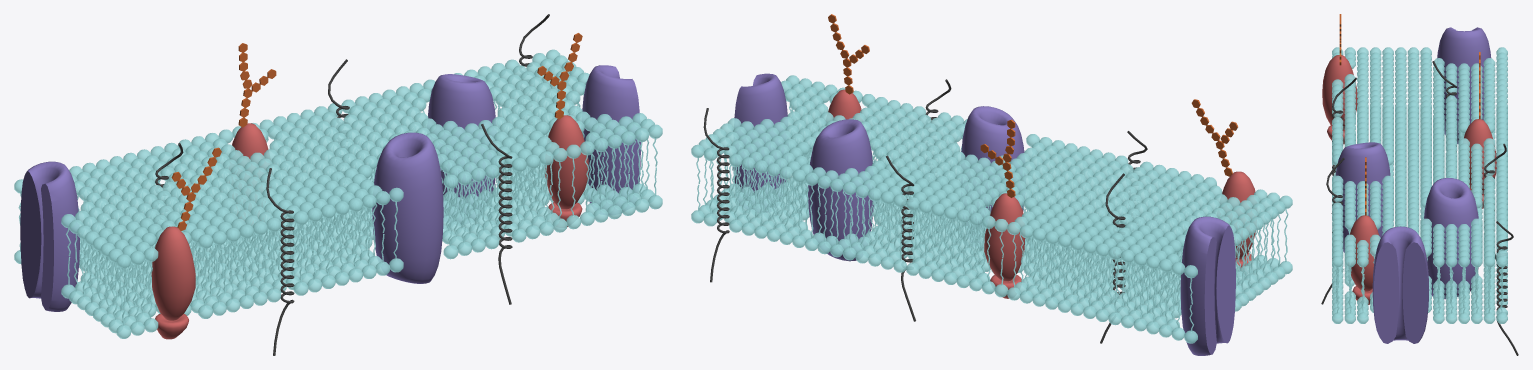
Rendered from membrane.glb.
The picture shows the model from 3 angles, left to right: view 1: azimuth 30°, elevation 25°; view 2: azimuth 150°, elevation 25°; view 3: azimuth 270°, elevation 25°; orthographic projection. The views are drawn at different scales.
Parts seen in each view (by area): view 1: base.001, Torus.009, Torus.008, Torus.007, Torus.006, Sphere.011, Sphere.007, Spiral.014, Spiral.012, hex.006, hex.007, hex.005 (+2 smaller); view 2: base.001, Torus.008, Torus.006, Torus.007, Torus.009, Sphere.009, Spiral.011, Sphere.011, hex.007, hex.005, hex.006, Spiral.010 (+2 smaller); view 3: base.001, Torus.007, Torus.006, Torus.009, Torus.008, Sphere.007, Sphere.011, Sphere.009, Spiral.011, Spiral.012, Spiral.014, Spiral.013.
Boxes of the visible parts, x1,y1,x2,y2 form: base.001: (14,49,662,338); Torus.009: (372,132,443,283); Torus.008: (20,161,79,311); Torus.007: (582,65,640,203); Torus.006: (428,74,495,197); Sphere.011: (151,226,195,320); Sphere.007: (545,115,588,209); Spiral.014: (266,168,294,355); Spiral.012: (481,124,512,304); hex.006: (238,43,276,127); hex.007: (171,147,221,230); hex.005: (537,33,582,119); base.001: (691,75,1292,343); Torus.008: (1180,216,1235,355); Torus.006: (808,119,873,261); Torus.007: (733,73,787,192); Torus.009: (961,106,1024,212); Sphere.009: (984,193,1025,281); Spiral.011: (703,108,729,282); Sphere.011: (1222,171,1255,259); hex.007: (1191,99,1237,176); hex.005: (828,14,869,94); hex.006: (980,119,1015,197); Spiral.010: (886,155,915,321); base.001: (1332,47,1507,323); Torus.007: (1372,226,1429,343); Torus.006: (1424,178,1478,299); Torus.009: (1335,142,1390,252); Torus.008: (1437,27,1491,143); Sphere.007: (1350,215,1379,291); Sphere.011: (1322,55,1357,130); Sphere.009: (1464,119,1496,194); Spiral.011: (1496,221,1518,355); Spiral.012: (1321,157,1344,304); Spiral.014: (1331,77,1356,213); Spiral.013: (1432,61,1456,152).
Size of the model in its own units: 2.08 by 0.8391 by 0.8069.
